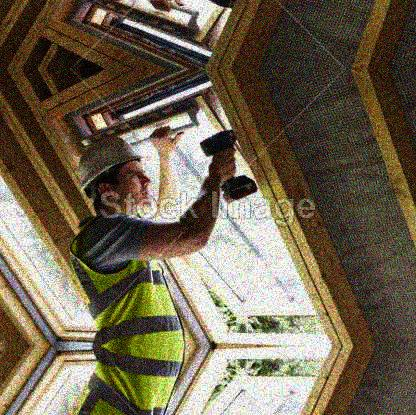helmet: (75, 135, 151, 218)
